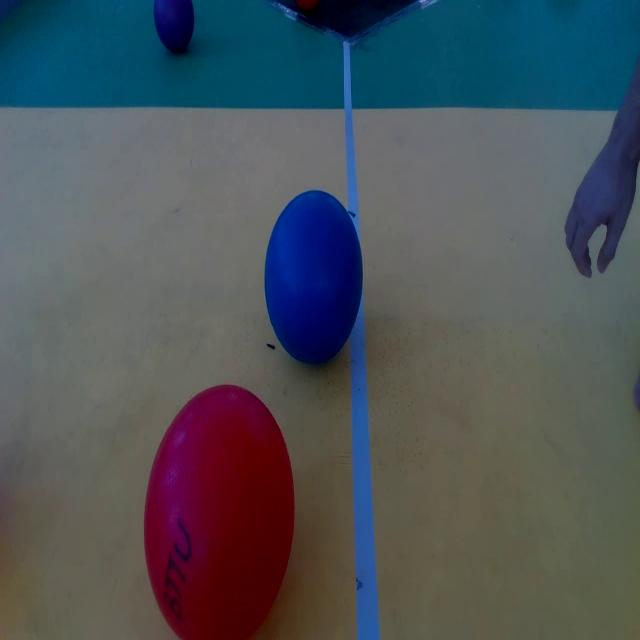blue: (264, 188, 362, 364)
red: (144, 383, 296, 640)
